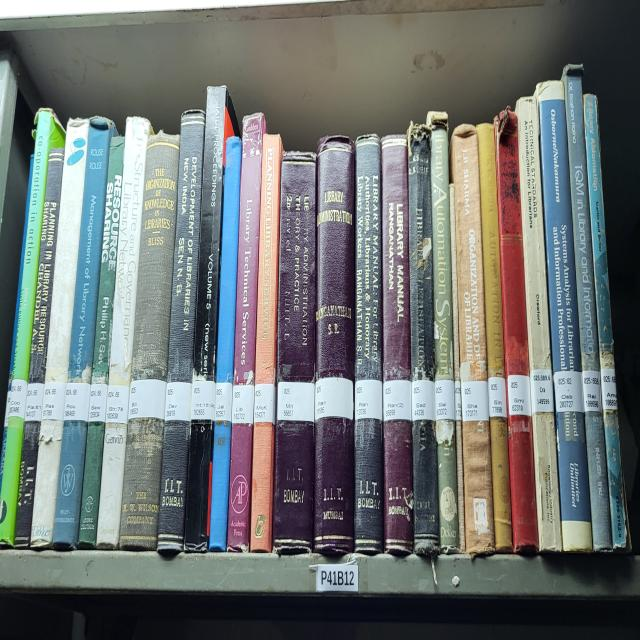Book: (0, 108, 65, 547), (52, 119, 115, 547), (535, 81, 592, 552), (120, 133, 180, 549), (31, 119, 89, 549), (185, 84, 238, 552), (562, 65, 612, 552), (96, 116, 151, 549), (515, 95, 562, 552), (584, 95, 630, 549), (158, 111, 205, 552), (494, 108, 539, 552), (15, 149, 64, 547), (450, 124, 495, 555), (79, 135, 124, 547), (272, 152, 316, 552), (314, 135, 355, 552), (228, 114, 266, 552), (476, 124, 512, 552), (428, 111, 459, 552), (408, 122, 439, 557), (209, 135, 241, 552), (250, 135, 282, 552), (381, 135, 412, 555), (355, 135, 382, 552), (449, 184, 466, 552)
Label: (315, 376, 354, 419), (278, 381, 315, 422), (129, 379, 166, 419), (384, 379, 412, 422), (554, 371, 584, 411), (461, 381, 489, 422), (530, 368, 554, 414), (355, 379, 382, 419), (64, 381, 90, 422), (165, 381, 191, 422), (411, 379, 435, 422), (105, 384, 130, 425), (508, 373, 531, 417), (231, 384, 255, 425), (41, 381, 66, 419), (191, 381, 216, 419), (434, 379, 455, 422), (254, 384, 275, 425), (488, 376, 508, 417), (582, 371, 601, 414), (25, 381, 44, 422), (600, 368, 618, 411), (9, 379, 28, 419), (89, 384, 108, 422), (215, 381, 232, 422), (454, 381, 461, 419)
